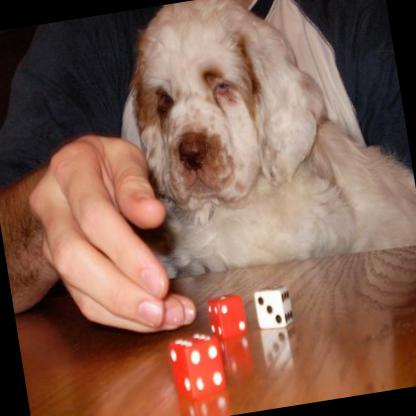clumber: (96, 0, 416, 292)
